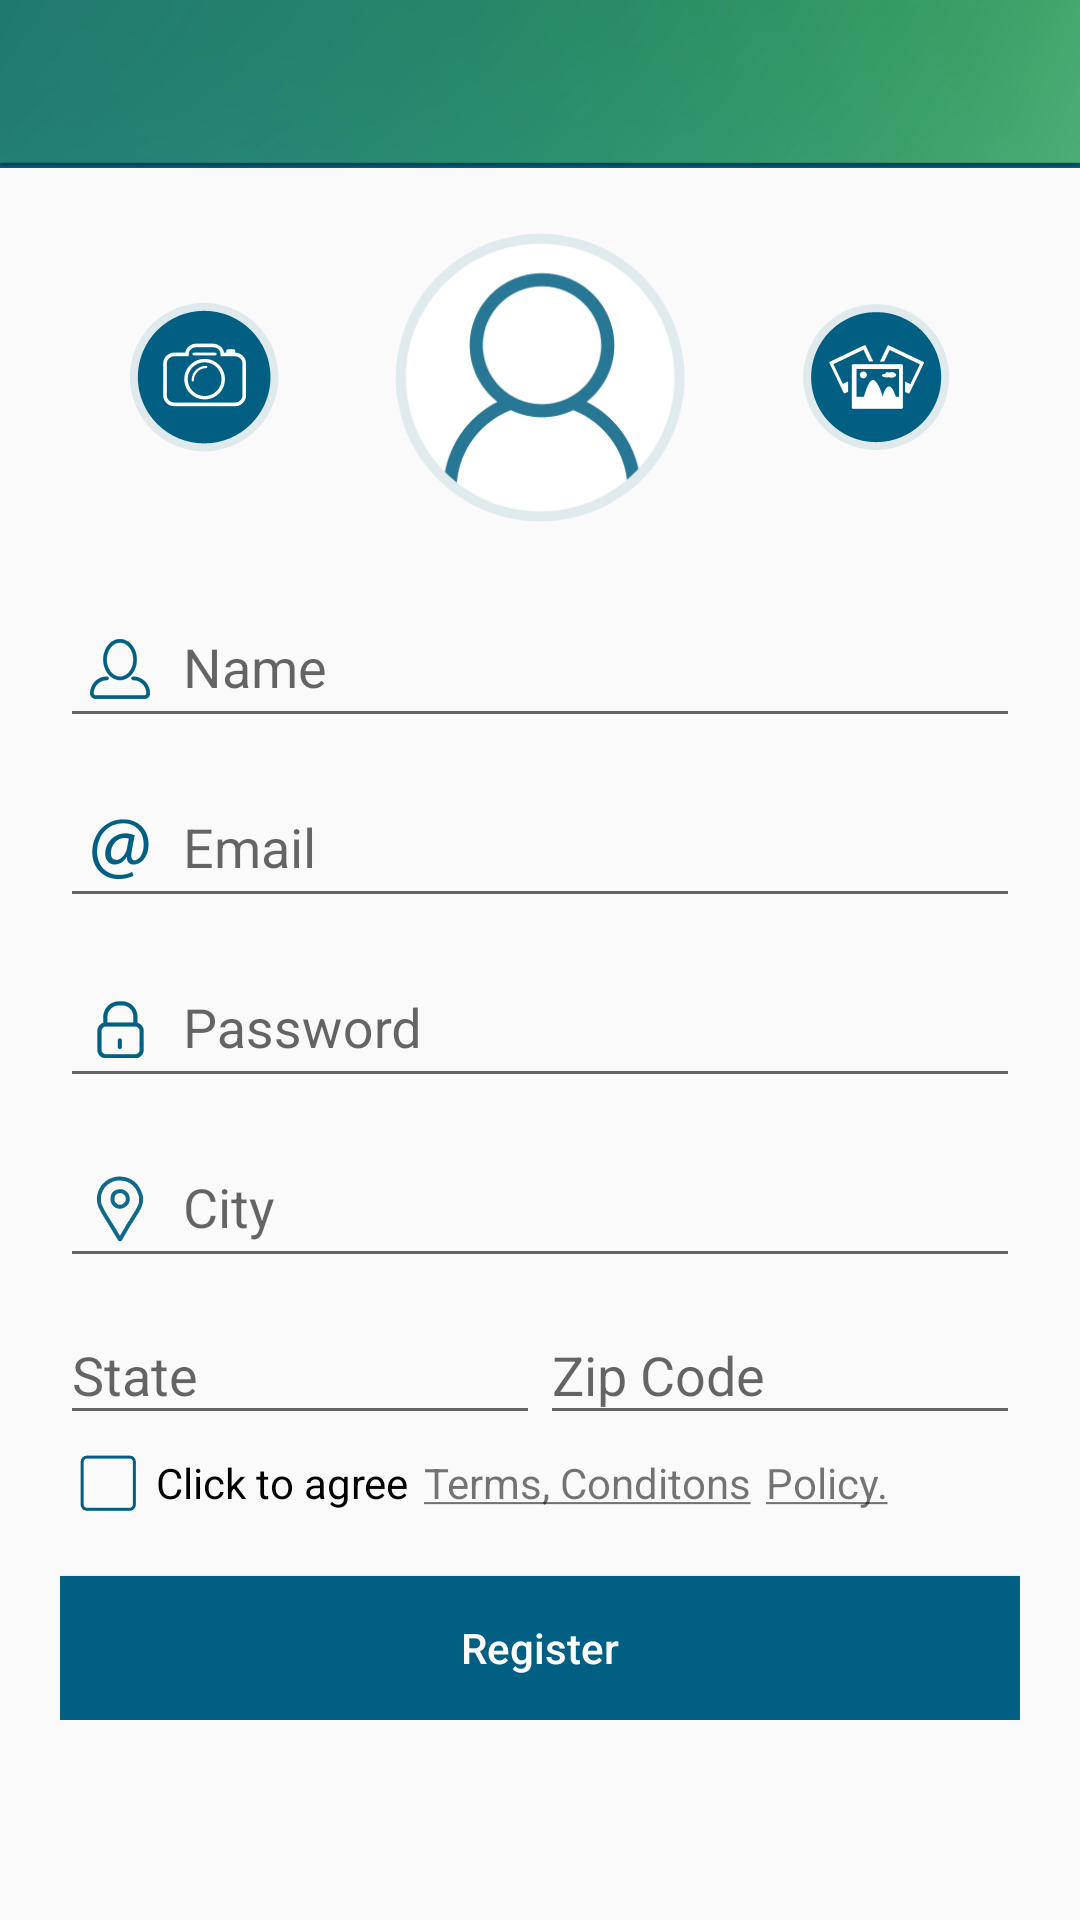

Icons on this 1080 x 1920 Android screen, each with its box as (x1, y1, x2, y2):
cam: (130, 303, 278, 451)
gallery: (804, 305, 949, 450)
profile pic: (397, 234, 684, 521)
